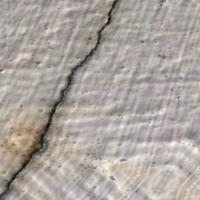crack: (0, 0, 118, 199)
